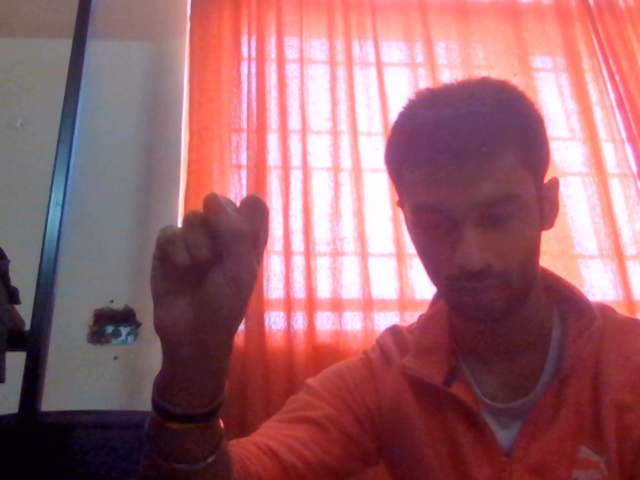S: (125, 170, 310, 415)
